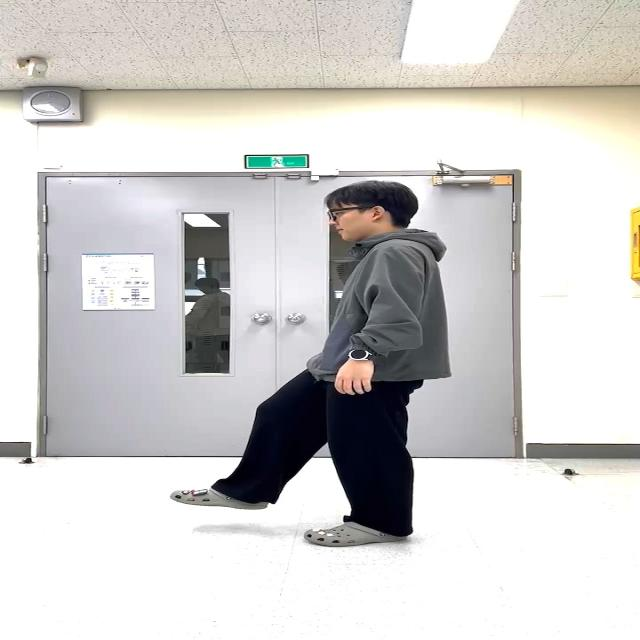leg: (169, 368, 328, 510), (304, 380, 415, 546)
